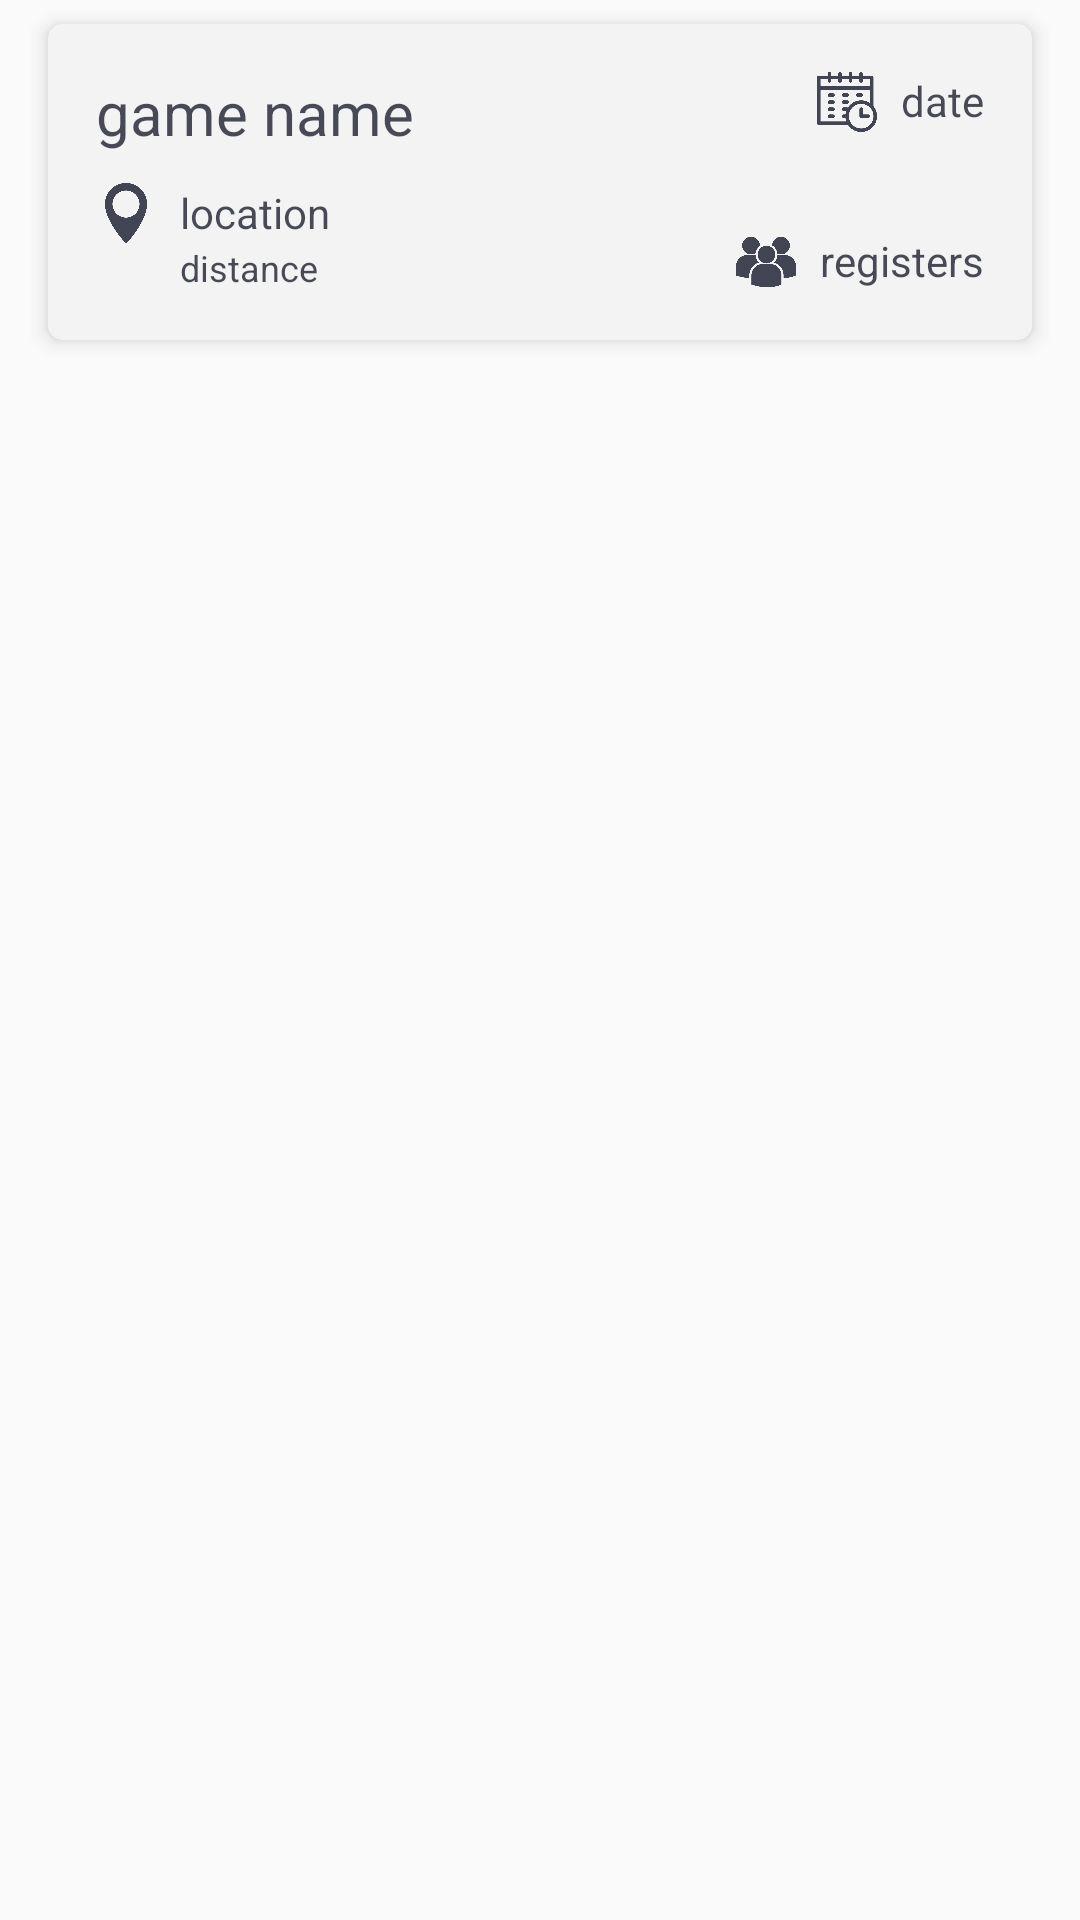

Named icons in this screenshot (1080*1920) and their centers, [x,y]:
timetable: [847,102]
